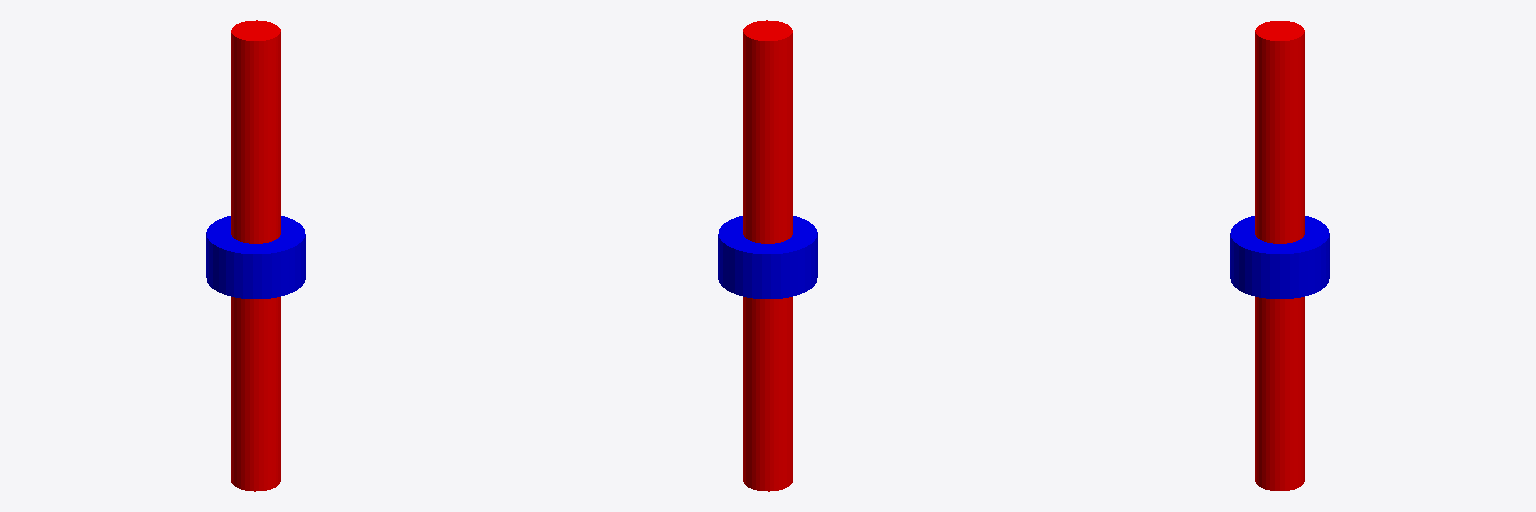
URDF robot description (double_rotational_test_setup):
<?xml version="1.0"?>
<robot name="double_rotational_test_setup">

  <!-- Define world link -->
  <link name="link_world">
    <inertial>
      <origin rpy="0 0 0" xyz="0 0 0"/>
      <mass value="0.0"/>
      <inertia ixx="0.0" ixy="0.0" ixz="0.0" iyy="0.0" iyz="0.0" izz="0.0"/>
    </inertial>
    <visual>
      <geometry>
        <cylinder length="0.1" radius="0.1"/>
      </geometry>
      <material name="blue">
        <color rgba="0 0 1 1"/>
      </material>
    </visual>
  </link>

  <!-- Define elbow link -->
  <link name="link_elbow">
    <inertial>
      <origin rpy="0 0 0" xyz="0 0 1"/>
      <mass value="0.0"/>
      <inertia ixx="0.0" ixy="0.0" ixz="0.0" iyy="0.0" iyz="0.0" izz="0.0"/>
    </inertial>
    <visual>
      <geometry>
        <cylinder length="0.1" radius="0.1"/>
      </geometry>
      <material name="blue">
        <color rgba="0 0 1 1"/>
      </material>
    </visual>
  </link>

  <!-- Define endpoint link -->
  <link name="link_endpoint">
    <inertial>
      <origin rpy="0 0 0" xyz="0 0 1"/>
      <mass value="10.0"/>
      <inertia ixx="0.0" ixy="0.0" ixz="0.0" iyy="10.0" iyz="0.0" izz="0.083"/>
    </inertial>
    <visual>
      <geometry>
        <cylinder length="1.0" radius="0.05"/>
      </geometry>
      <material name="red">
        <color rgba="1 0 0 1"/>
      </material>
    </visual>
  </link>

  <!-- Define rotational joint -->
  <joint name="joint_shoulder" type="revolute">
    <origin rpy="0 0 0" xyz="0 0 0"/>
    <axis xyz="0 -1 0"/>
    <parent link="link_world"/>
    <child link="link_elbow"/>
    <limit effort="250" lower="-0.1745329252" upper="1.9634954085" velocity="3.94"/>
  </joint>

  <!-- Define rotational joint -->
  <joint name="joint_elbow" type="revolute">
    <origin rpy="0 0 0" xyz="0 0 0"/>
    <axis xyz="0 -1 0"/>
    <parent link="link_elbow"/>
    <child link="link_endpoint"/>
    <limit effort="250" lower="-0.1745329252" upper="1.9634954085" velocity="3.94"/>
  </joint>

</robot>

--- What the picture shows (computed from the rendered views, not written in the file) ---
Views: 3 orthographic renders of the robot side by side, from view 1: azimuth 30°, elevation 25°; view 2: azimuth 150°, elevation 25°; view 3: azimuth 270°, elevation 25°.
Model double_rotational_test_setup with 3 links and 2 joints (2 revolute), rooted at link_world, posed all joints at 0.
Visible links, largest first — view 1: link_endpoint, link_world; view 2: link_endpoint, link_world; view 3: link_endpoint, link_world.
Boxes of the visible links, x1=… form: link_endpoint: x1=231, y1=20, x2=280, y2=491; link_world: x1=206, y1=216, x2=305, y2=298; link_endpoint: x1=743, y1=20, x2=792, y2=491; link_world: x1=718, y1=216, x2=817, y2=298; link_endpoint: x1=1255, y1=21, x2=1304, y2=490; link_world: x1=1230, y1=216, x2=1329, y2=298.
Bounding box of the posed robot: 0.2 × 0.2 × 1 m (x, y, z).
Geometry: primitives only (box / cylinder / sphere), no mesh files.